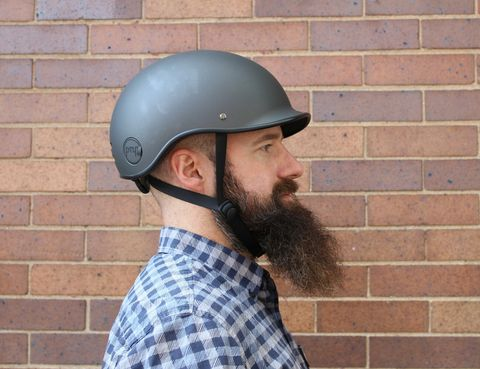helmet: (109, 51, 312, 260)
